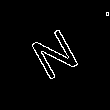N_SE: (25, 23, 85, 87)
